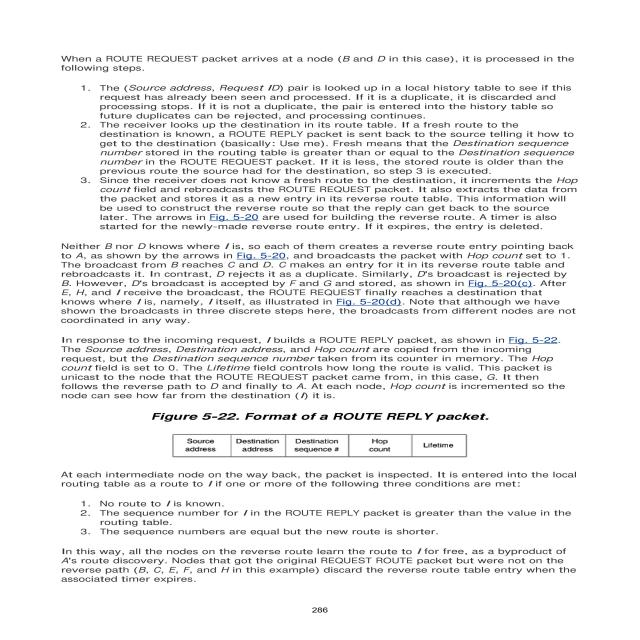diagram: (138, 406, 512, 463)
